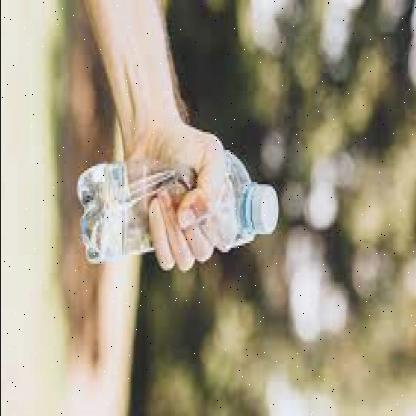Plastic Bottle: (76, 148, 278, 264)
